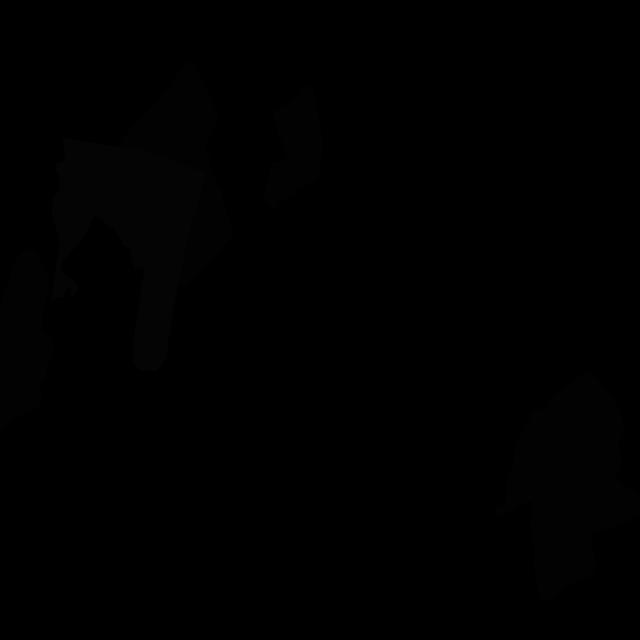cardboard: (493, 372, 640, 603), (116, 60, 233, 287), (0, 249, 54, 431), (264, 86, 323, 211)
soft_plastic: (51, 138, 205, 371)
